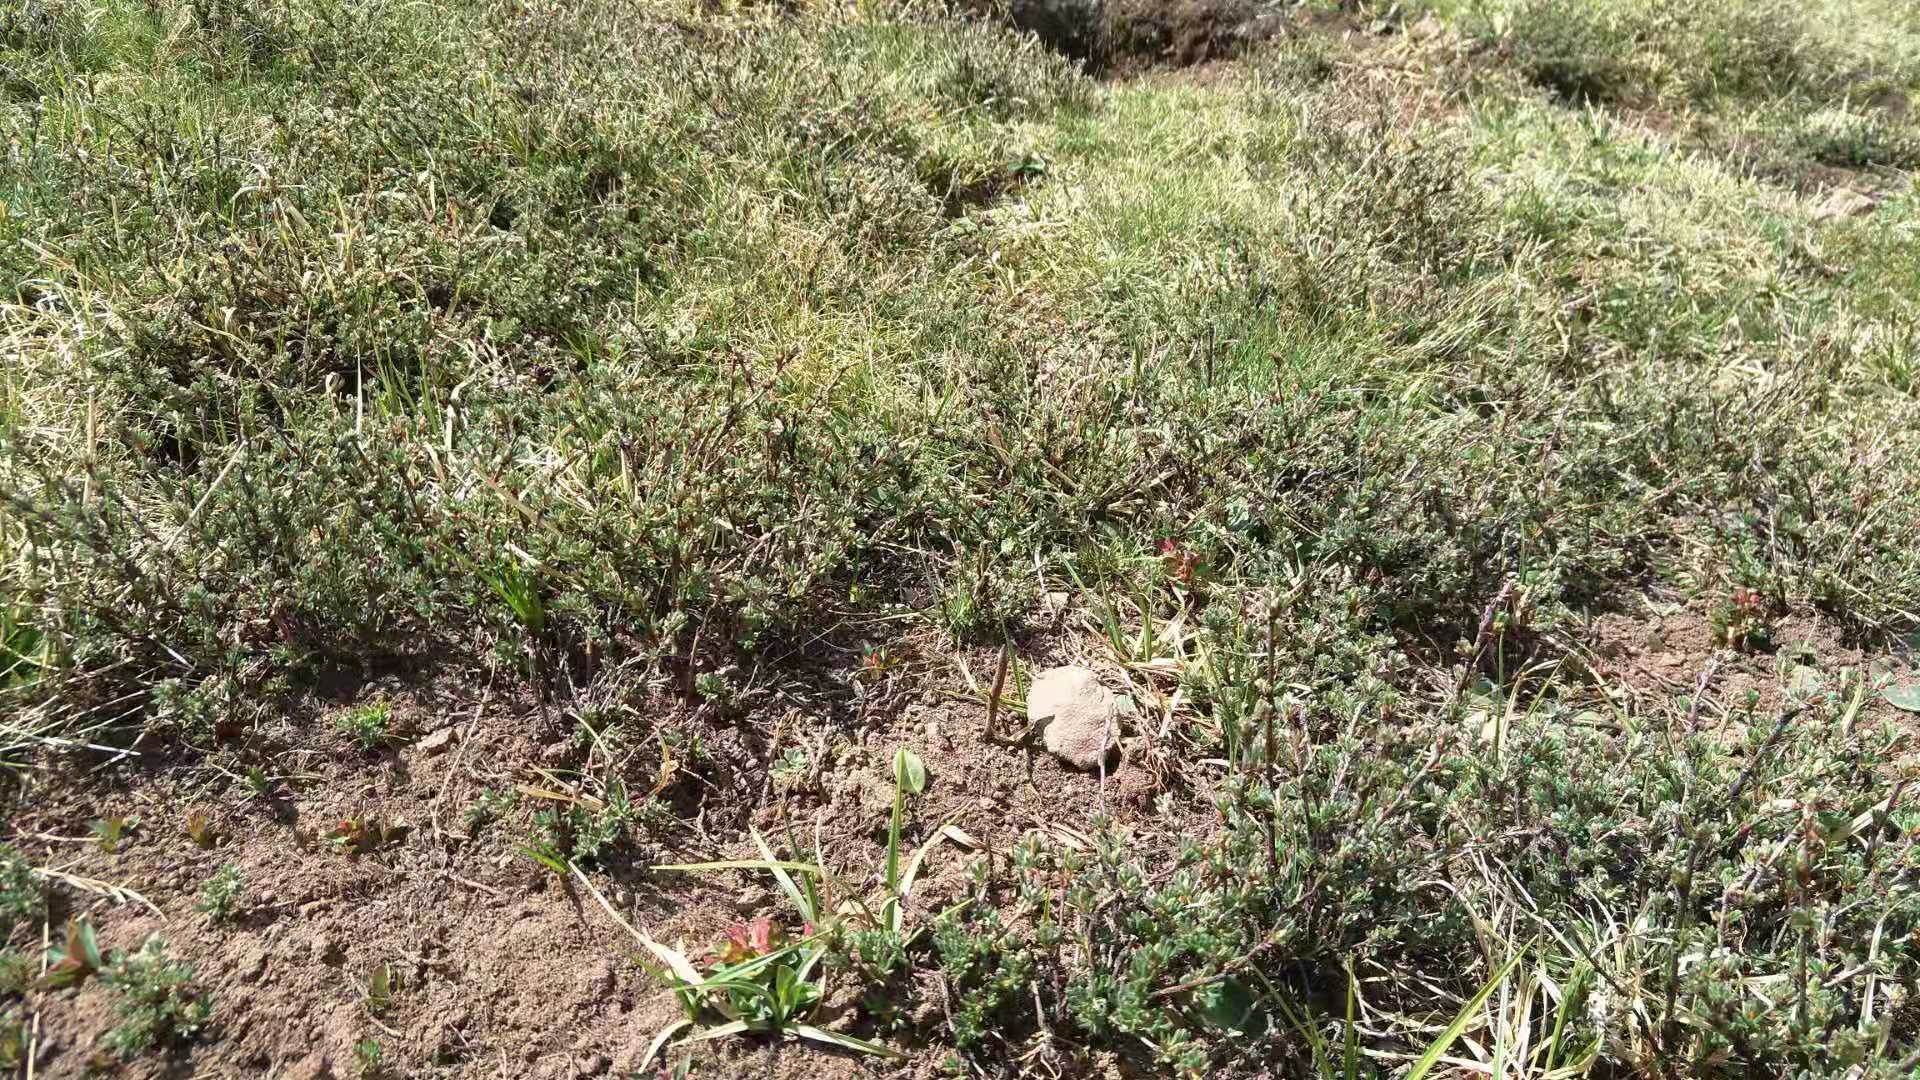cpf: (976, 646, 1015, 742)
